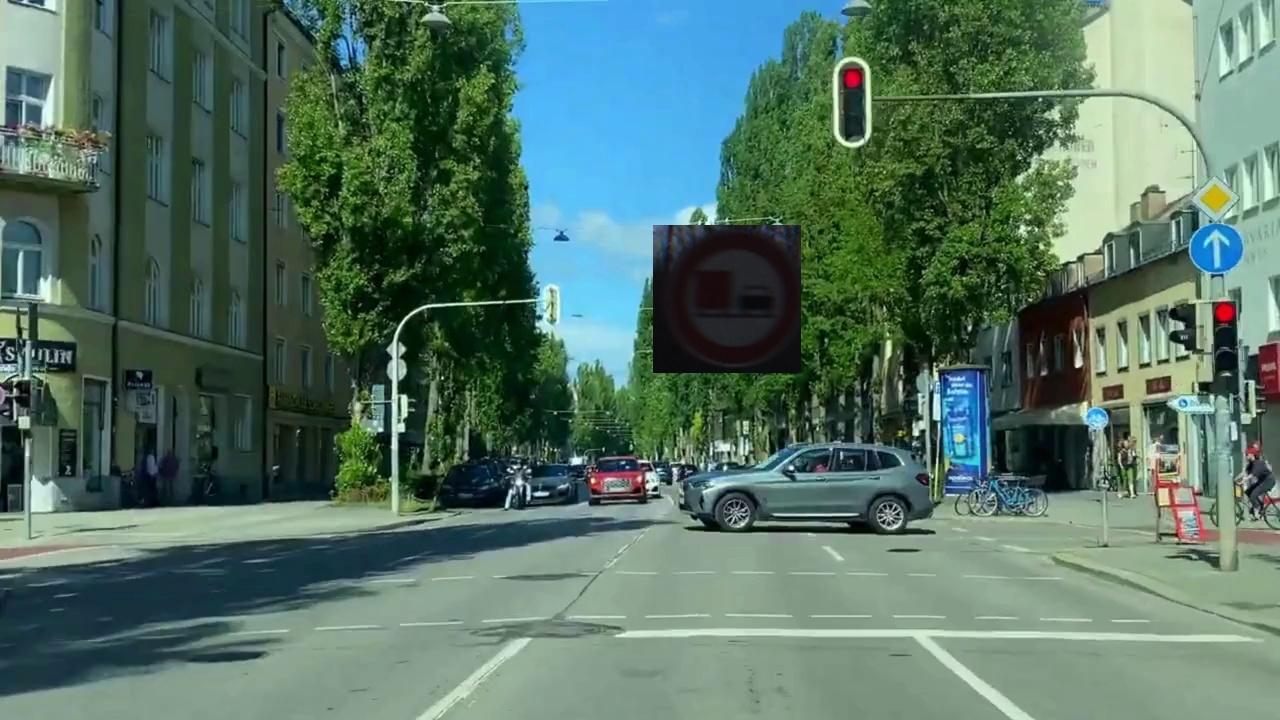No pass >3.5t: (653, 225, 801, 373)
